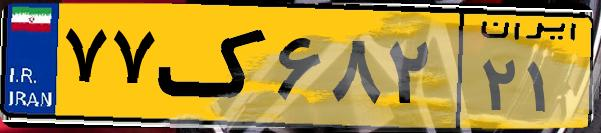1: (525, 38, 570, 115)
2: (385, 28, 445, 110), (475, 38, 525, 113)
6: (270, 28, 330, 110)
7: (57, 26, 110, 100), (110, 28, 158, 98)
8: (330, 28, 385, 110)
ک: (158, 12, 270, 120)
